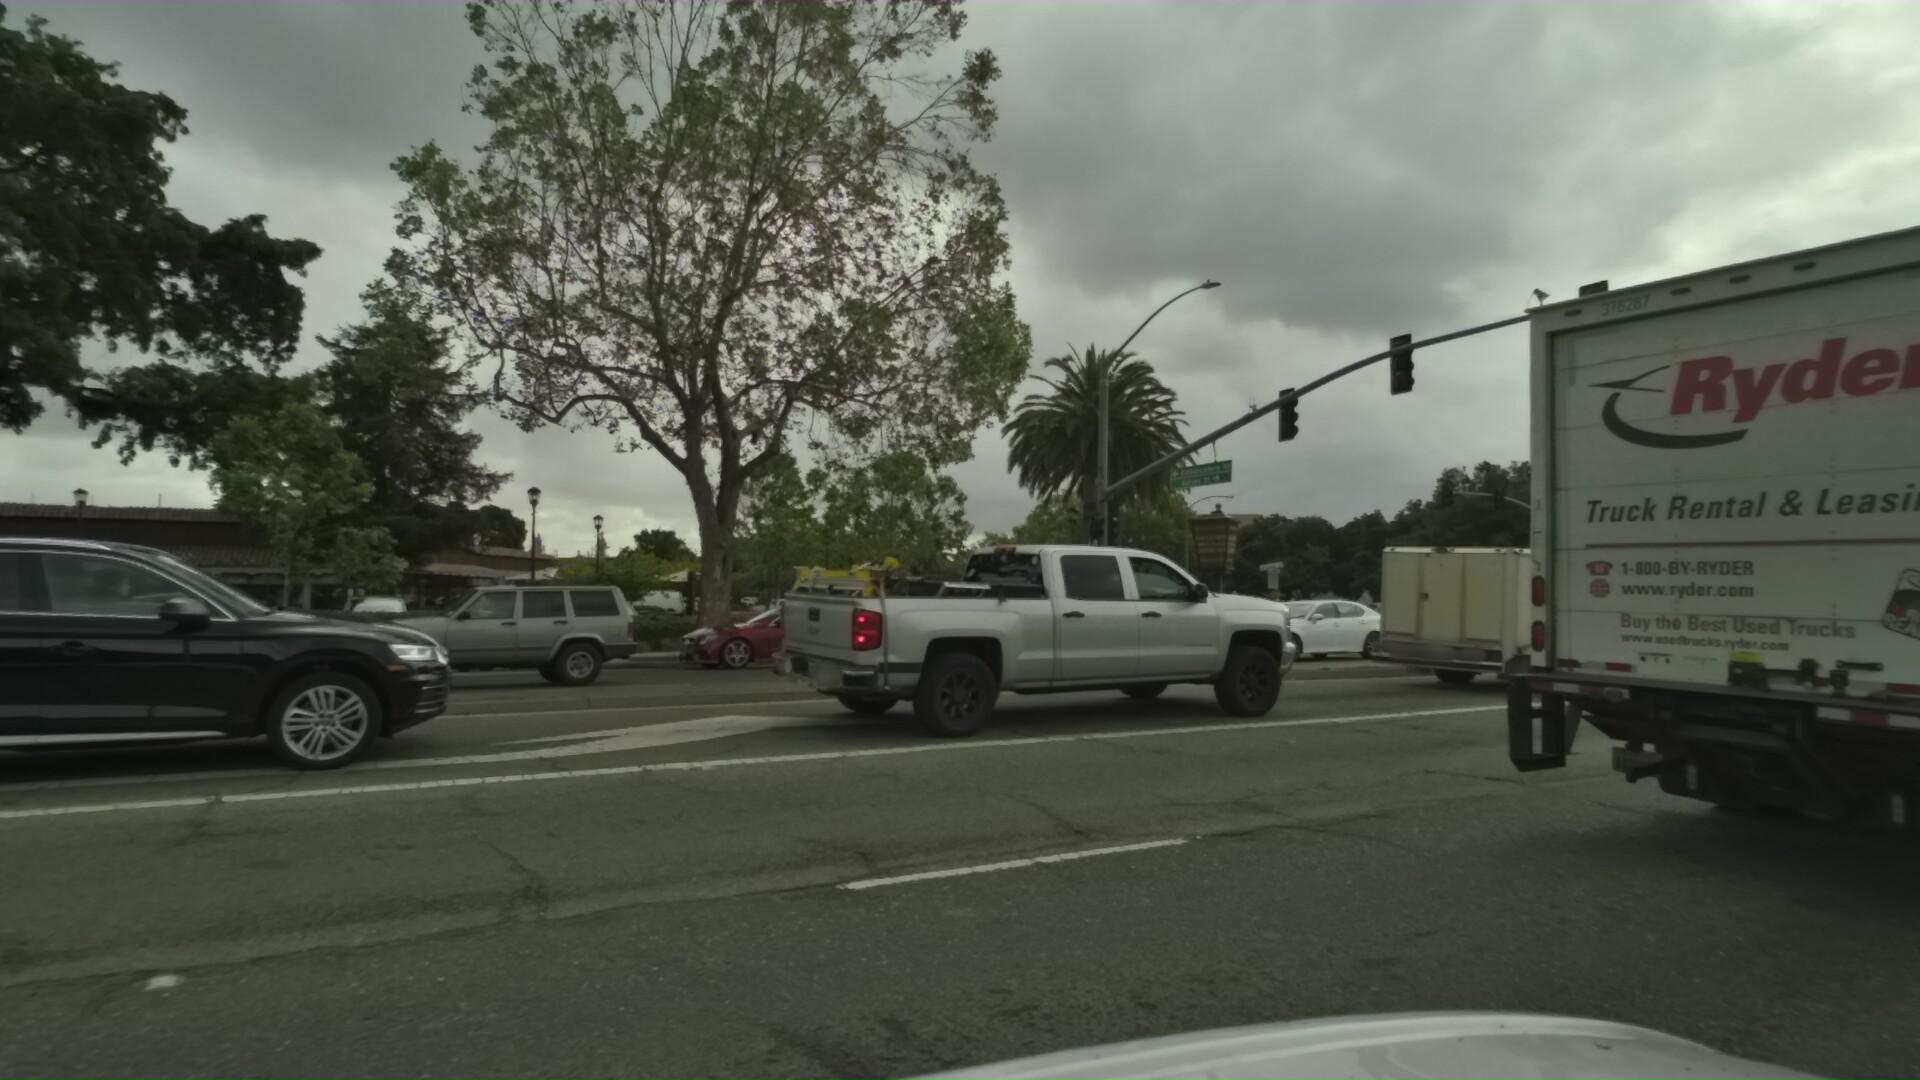car: (0, 509, 415, 837), (713, 522, 1298, 754), (273, 574, 593, 702), (628, 589, 876, 673), (1168, 595, 1367, 669), (313, 587, 398, 657), (541, 596, 633, 651), (1199, 599, 1250, 626)
truck: (1486, 156, 1920, 969), (1327, 531, 1714, 698)
